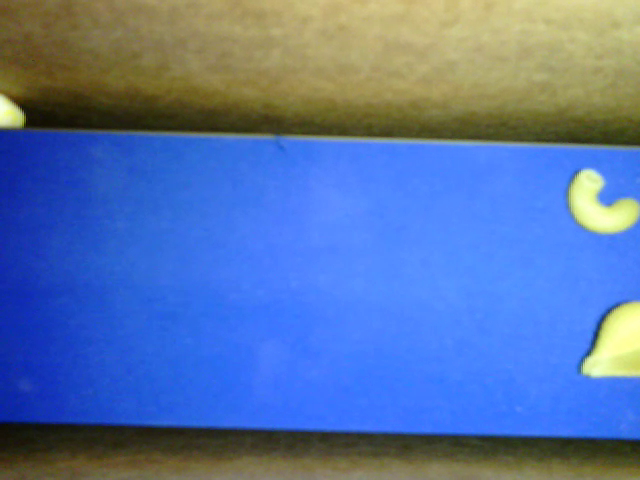elbow: (568, 168, 639, 235)
shell: (580, 300, 639, 378)
